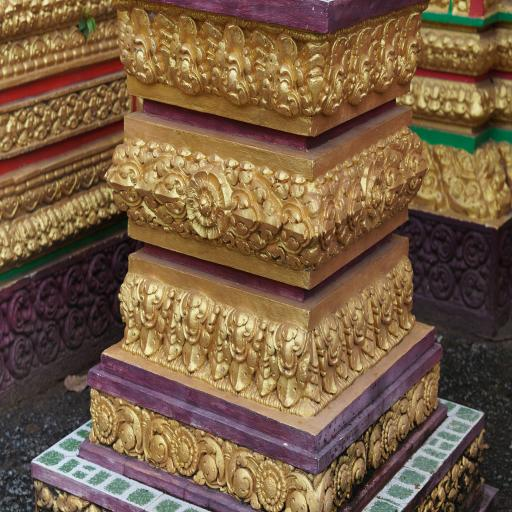hoa: (188, 166, 231, 242), (355, 153, 388, 233), (254, 456, 287, 512), (88, 395, 120, 450), (168, 426, 198, 479), (332, 456, 354, 503), (380, 409, 400, 456), (423, 371, 440, 410)
la: (257, 181, 307, 255), (132, 271, 167, 362), (141, 158, 186, 227), (179, 285, 211, 381), (269, 313, 301, 409), (332, 298, 370, 372), (308, 313, 339, 402), (99, 151, 143, 211), (225, 302, 254, 392), (226, 176, 262, 246), (249, 312, 278, 398), (361, 278, 395, 348), (388, 254, 418, 331), (161, 281, 186, 369), (116, 269, 142, 352), (205, 296, 229, 382), (226, 441, 256, 506), (193, 429, 225, 488), (142, 403, 170, 469), (114, 397, 144, 456), (319, 183, 343, 252), (402, 140, 430, 198), (343, 175, 367, 233), (382, 155, 406, 211), (284, 464, 310, 512), (346, 432, 370, 484), (366, 417, 388, 473), (311, 463, 336, 512), (14, 104, 40, 147), (93, 80, 119, 122), (0, 109, 24, 153), (33, 99, 57, 143), (47, 94, 72, 135), (406, 381, 428, 427), (80, 85, 103, 125), (62, 89, 86, 127), (392, 392, 410, 440), (4, 40, 31, 71), (110, 79, 129, 117), (40, 178, 64, 205), (18, 186, 44, 210), (64, 26, 87, 53), (76, 163, 99, 189), (101, 14, 120, 44), (26, 34, 47, 60), (46, 30, 67, 56), (58, 172, 80, 196), (84, 20, 104, 45), (0, 193, 18, 220), (97, 157, 113, 182)
